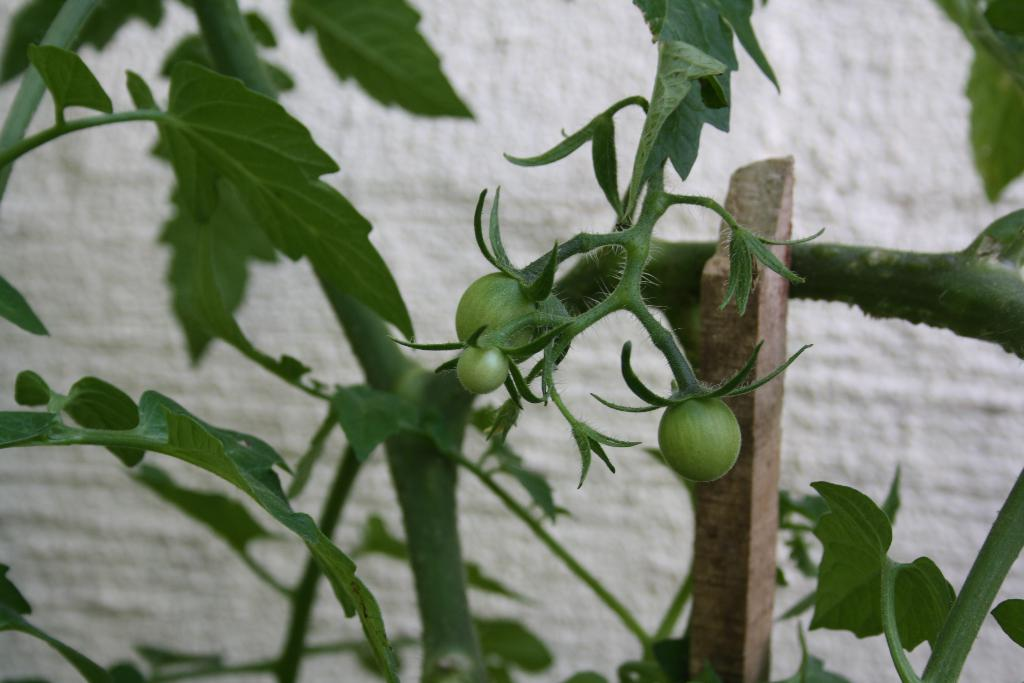Tomato: (656, 391, 741, 486), (455, 276, 535, 356), (456, 341, 506, 394)
